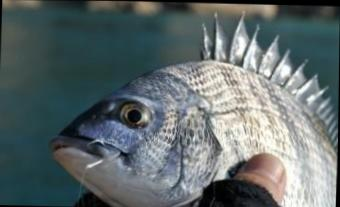fish: (50, 10, 338, 207)
